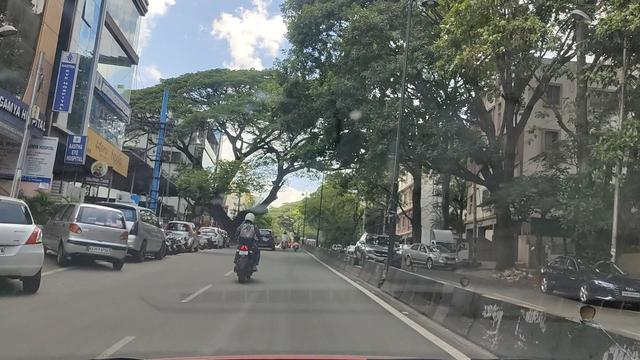LMV: (48, 200, 130, 269), (241, 213, 263, 287)
